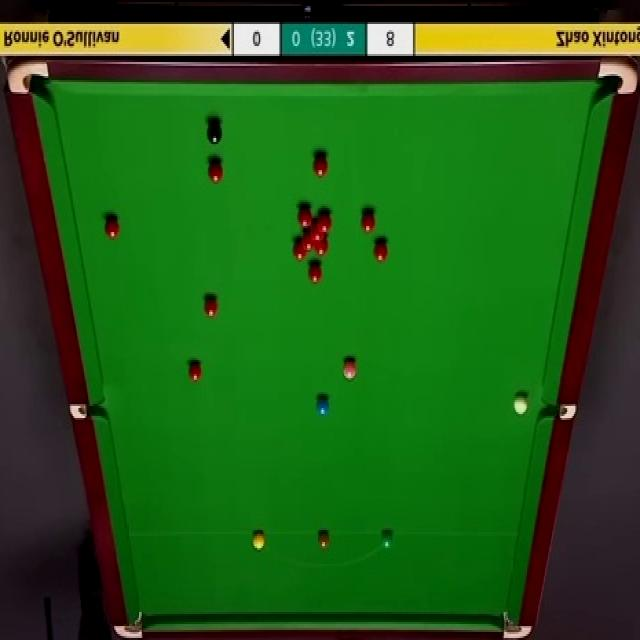black-ball: (207, 122, 224, 146)
blue-ball: (316, 393, 330, 418)
brown-ball: (317, 531, 330, 550)
green-ball: (381, 531, 394, 550)
pink-ball: (342, 356, 358, 378)
red-ball: (201, 293, 220, 319), (312, 152, 330, 178), (102, 216, 119, 242), (306, 262, 325, 284), (292, 238, 308, 264), (208, 160, 224, 184), (372, 240, 389, 262), (316, 210, 333, 232), (360, 210, 376, 233), (314, 232, 330, 255), (297, 206, 312, 230), (301, 230, 317, 250), (188, 362, 202, 380), (310, 223, 324, 240)
white-ball: (514, 393, 528, 415)
yellow-ball: (252, 531, 265, 550)
